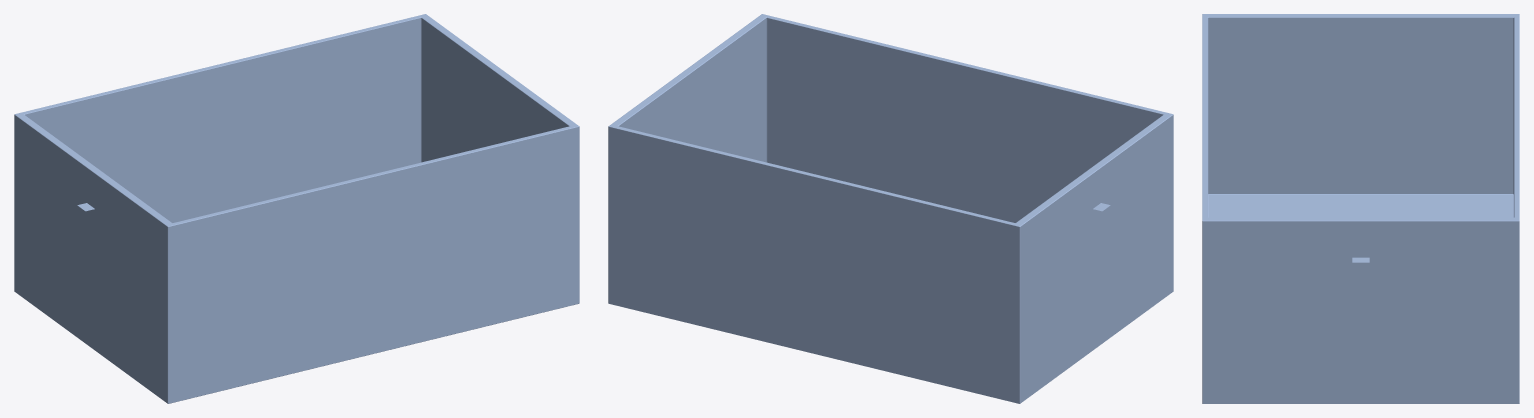
File: maviplastik.fbx
3 views of the same model, side by side, from view 1: azimuth 30°, elevation 25°; view 2: azimuth 150°, elevation 25°; view 3: azimuth 270°, elevation 25° (orthographic). The views are drawn at different scales.
Parts seen in each view (by area): view 1: Cube; view 2: Cube; view 3: Cube.
Part boxes in pixels (x1=…): Cube: x1=14, y1=14, x2=579, y2=403; Cube: x1=608, y1=14, x2=1173, y2=403; Cube: x1=1202, y1=14, x2=1519, y2=403.
Bounding box in the file's own units: 178 × 70 × 110.
